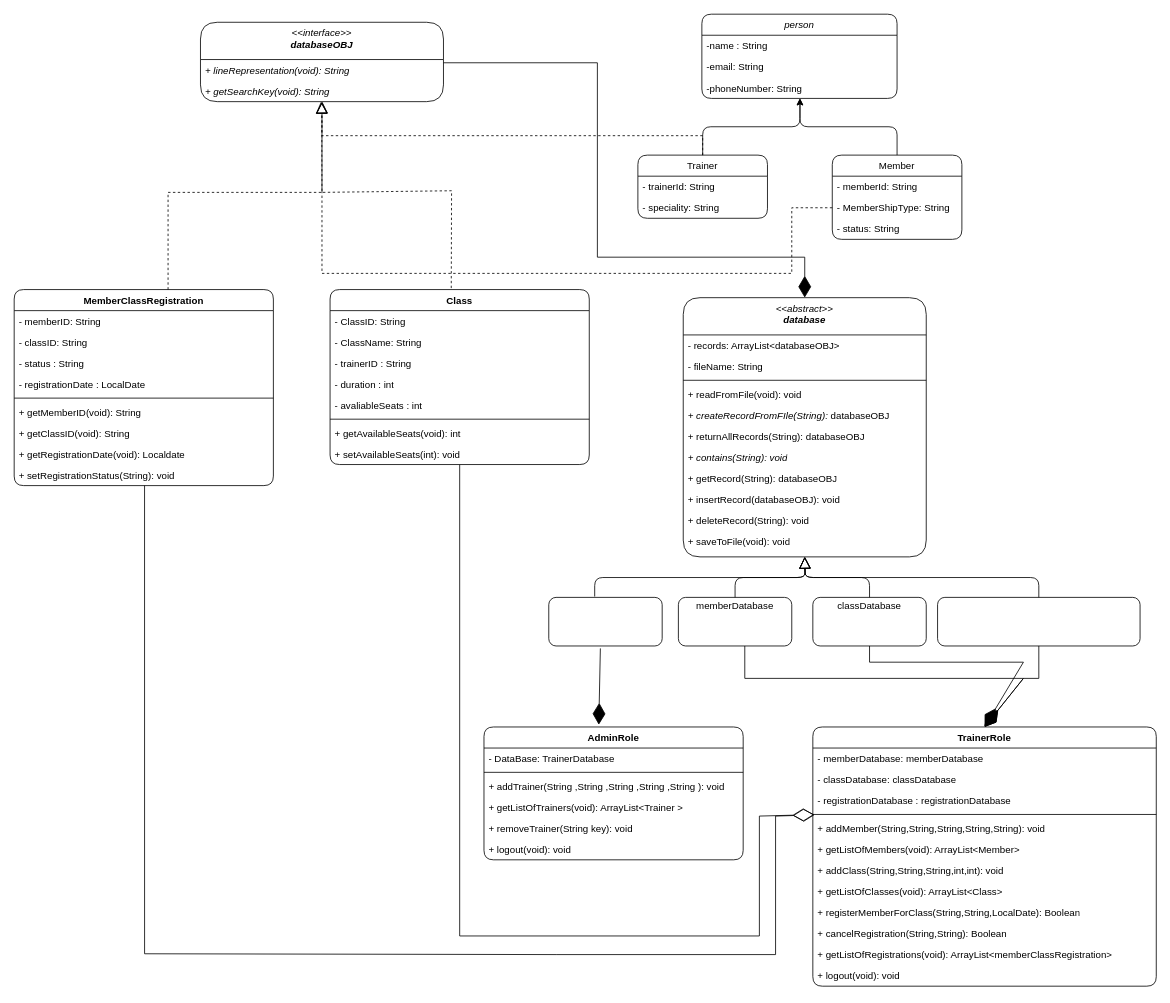
This 1170x1003 diagram has some shape labels left out. Each missing label, with the centre of its shape:
MemberClassRegistrationDatabaselass: point 1038,621
trainerDatabase: point 605,621
